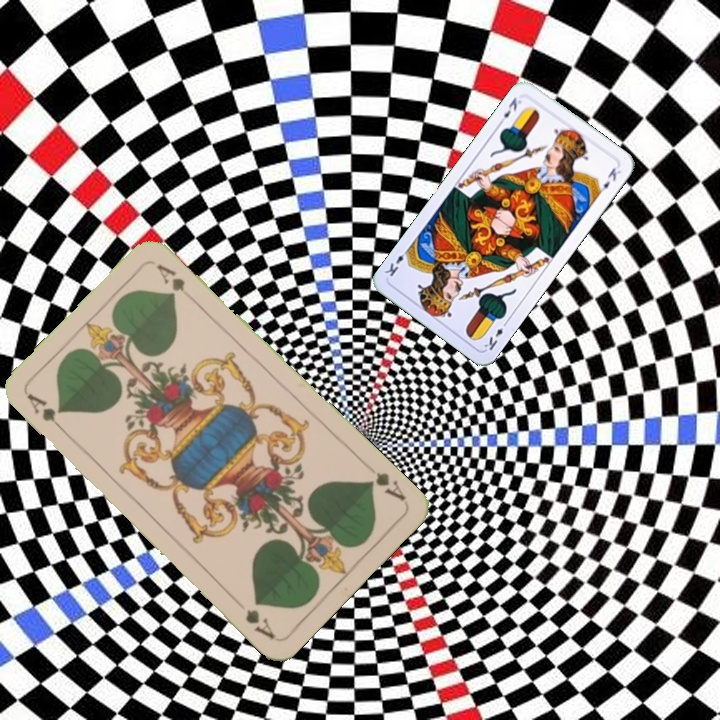EK: (480, 316, 511, 353), (495, 93, 524, 127)
GA: (23, 389, 70, 437), (362, 468, 408, 504)
